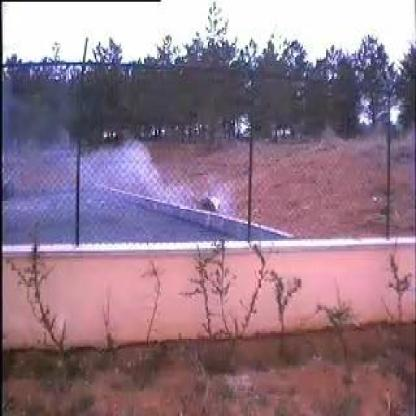-: (40, 128, 208, 239)
